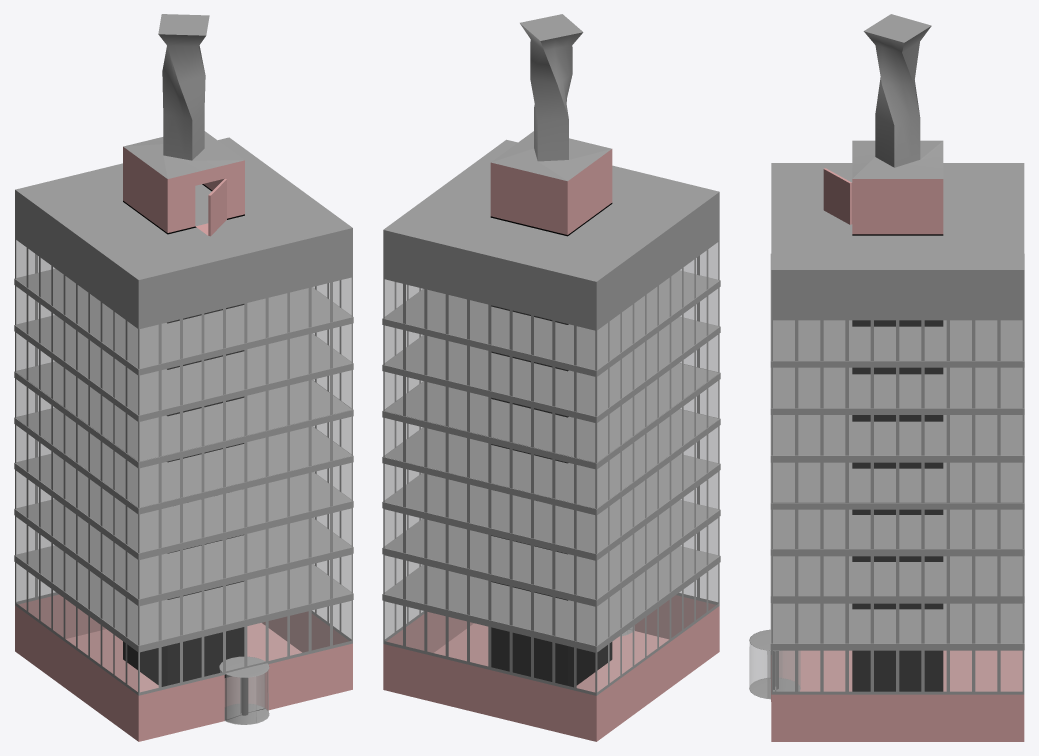
Rendered from OfficeBuildingExterior.fbx.
3 views of the same model, side by side, from view 1: azimuth 30°, elevation 25°; view 2: azimuth 150°, elevation 25°; view 3: azimuth 270°, elevation 25° (orthographic). The views are drawn at different scales.
Visible parts, largest first — view 1: pCube12; view 2: pCube12; view 3: pCube12.
Part boxes in pixels (x1,y1,x2,y2): pCube12: [14, 14, 353, 741]; pCube12: [382, 14, 720, 741]; pCube12: [749, 14, 1024, 741].
Bounding box in the file's own units: 23.82 × 68.33 × 25.84.
